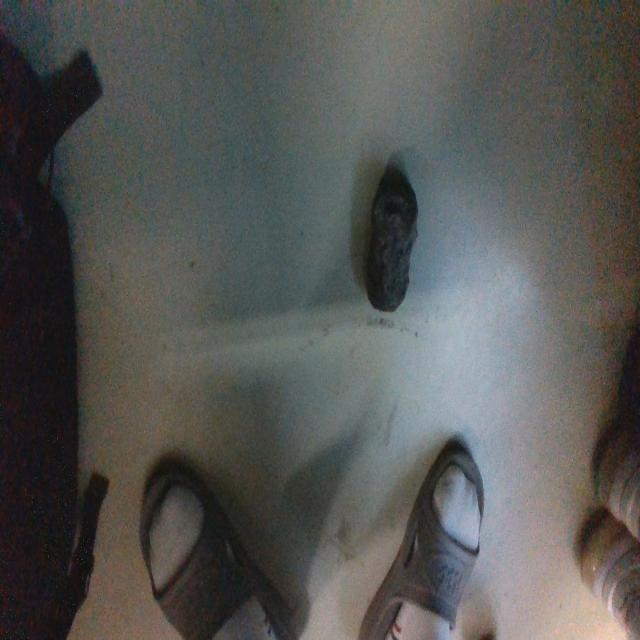stone: (366, 166, 418, 313)
